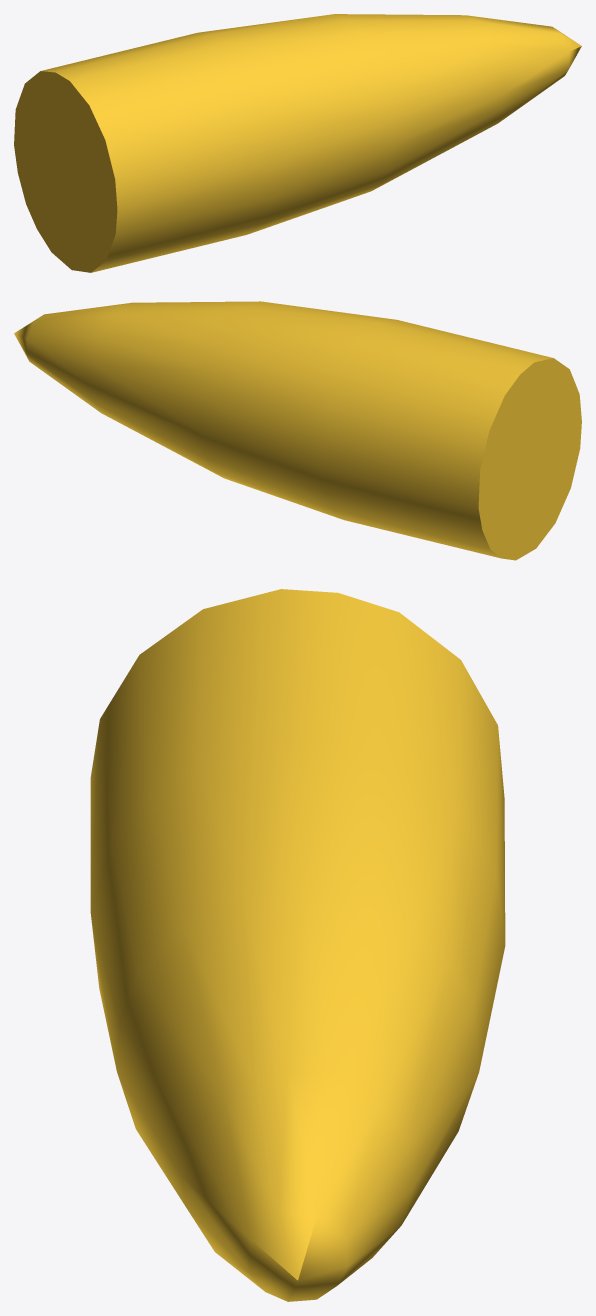
File: bala_ignitium.obj
3 renders of one model, top to bottom at view 1: azimuth 30°, elevation 25°; view 2: azimuth 150°, elevation 25°; view 3: azimuth 270°, elevation 25°, orthographic. The views are drawn at different scales.
Bounding box in the file's own units: 0.0656 × 0.0228 × 0.0228.
